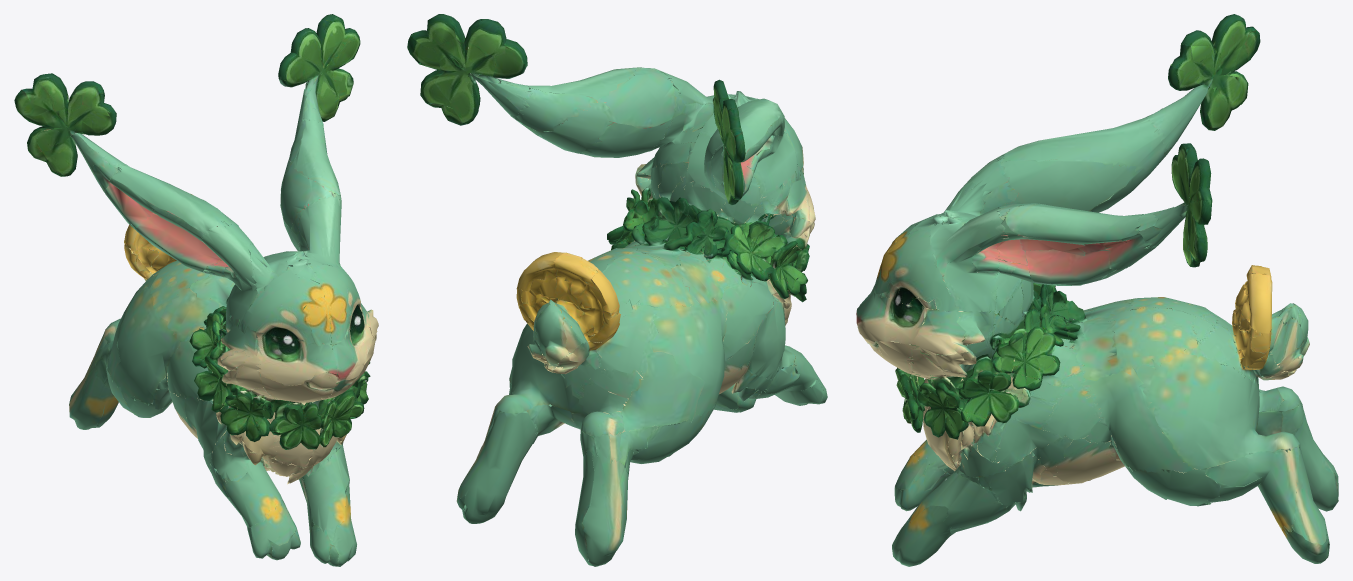
3 views of the same model, side by side, from view 1: azimuth 30°, elevation 25°; view 2: azimuth 150°, elevation 25°; view 3: azimuth 270°, elevation 25° (orthographic). The views are drawn at different scales.
Visible parts, largest first — view 1: Mesh_0; view 2: Mesh_0; view 3: Mesh_0.
Part boxes in pixels (x1,y1,x2,y2): Mesh_0: (14, 14, 378, 566); Mesh_0: (407, 14, 827, 566); Mesh_0: (856, 14, 1338, 566).
Bounding box in the file's own units: 1.52 × 1.9 × 1.76.
Materials: 1 (1 with a texture image).
